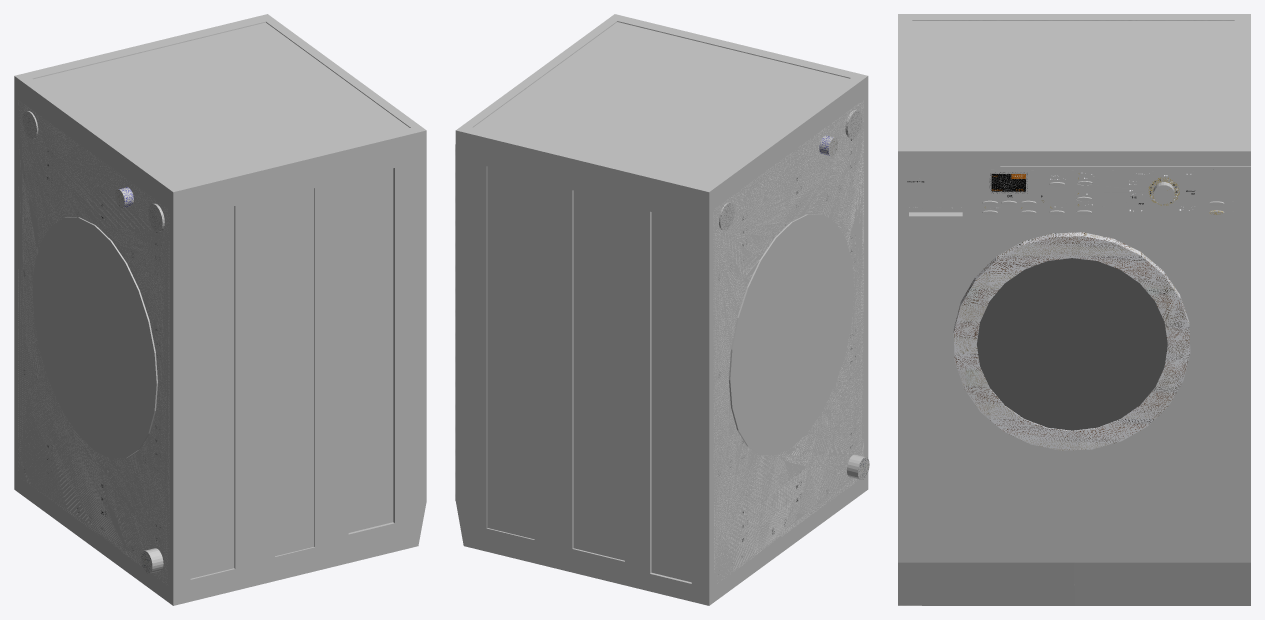
The picture shows the model from 3 angles, left to right: view 1: azimuth 30°, elevation 25°; view 2: azimuth 150°, elevation 25°; view 3: azimuth 270°, elevation 25°; orthographic projection. The views are drawn at different scales.
Parts seen in each view (by area): view 1: mesh3.001_mesh3-geometry; view 2: mesh3.001_mesh3-geometry; view 3: mesh3.001_mesh3-geometry.
Boxes of the visible parts, x1,y1,x2,y2 form: mesh3.001_mesh3-geometry: (14,14,426,605); mesh3.001_mesh3-geometry: (455,14,869,605); mesh3.001_mesh3-geometry: (898,14,1250,605).
Bounding box in the file's own units: 0.4912 × 0.7146 × 0.498.
